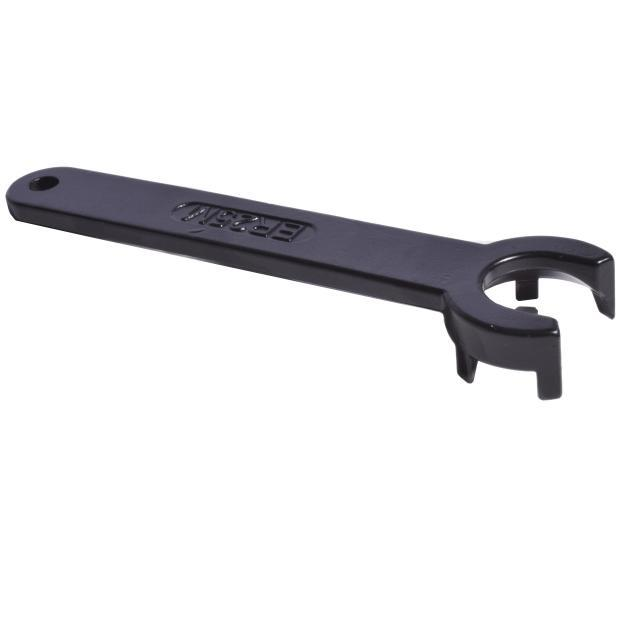wrench: (1, 156, 622, 410)
